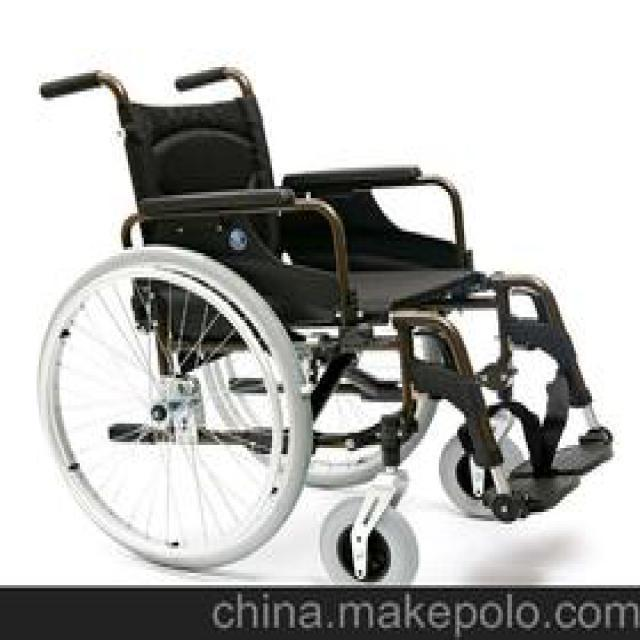wheelchairs: (36, 65, 614, 582)
